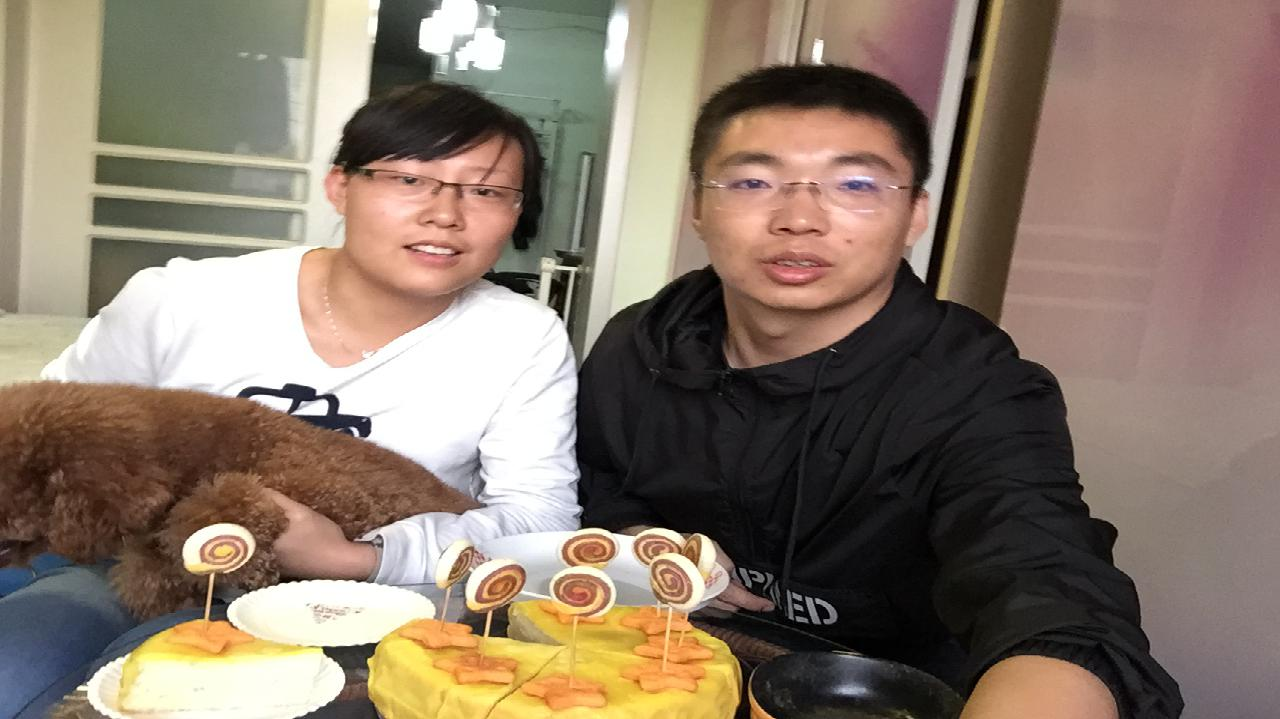zhuangzhuang: (3, 378, 455, 603)
